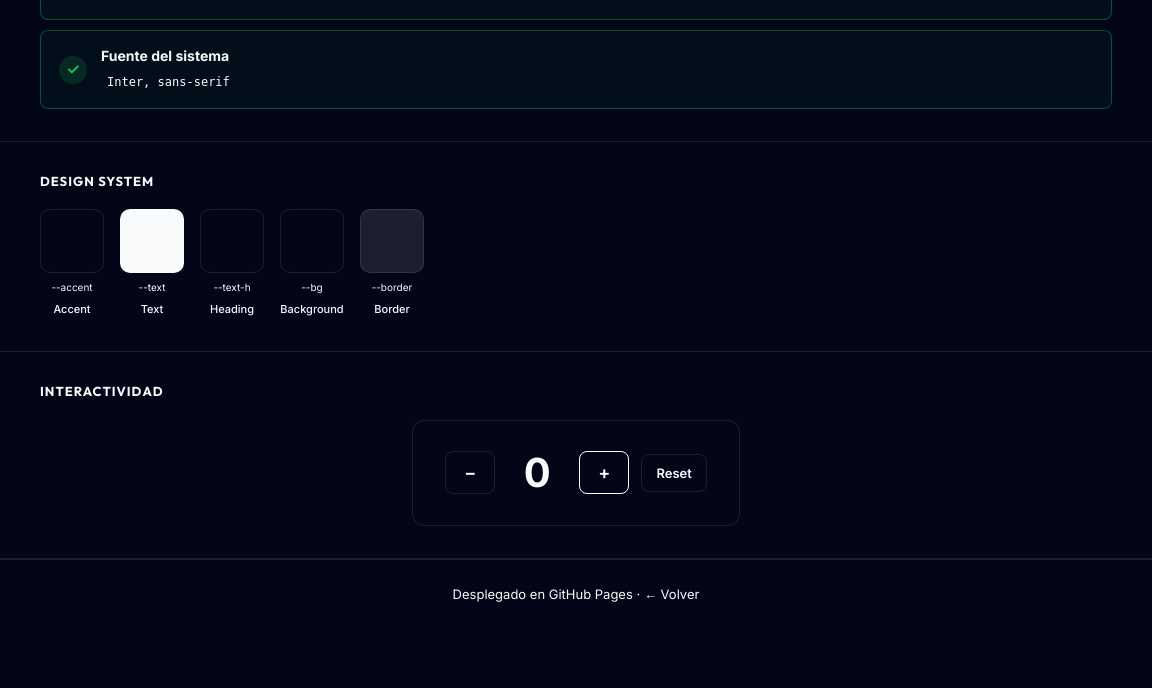
Scenario: TestPage › increments counter when + button is clicked
(page scrolled)
Click the button "+" at (604, 473), box [579,451,629,494]
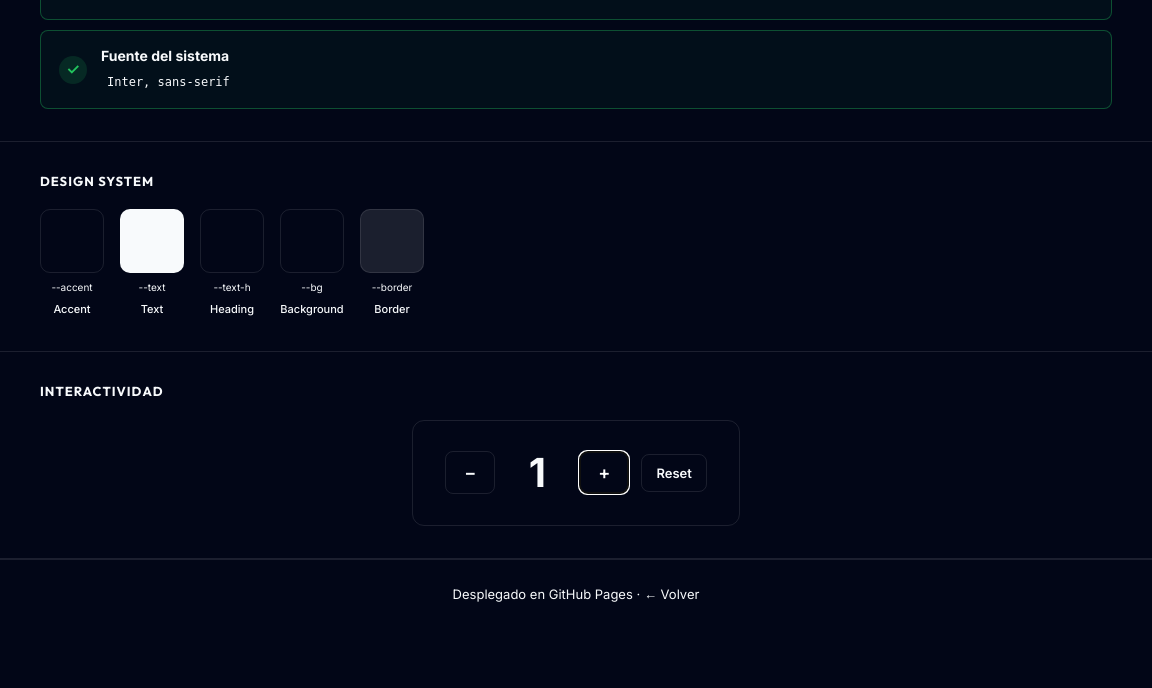
Check: the text "1" is shown, box [529,448,546,497]
